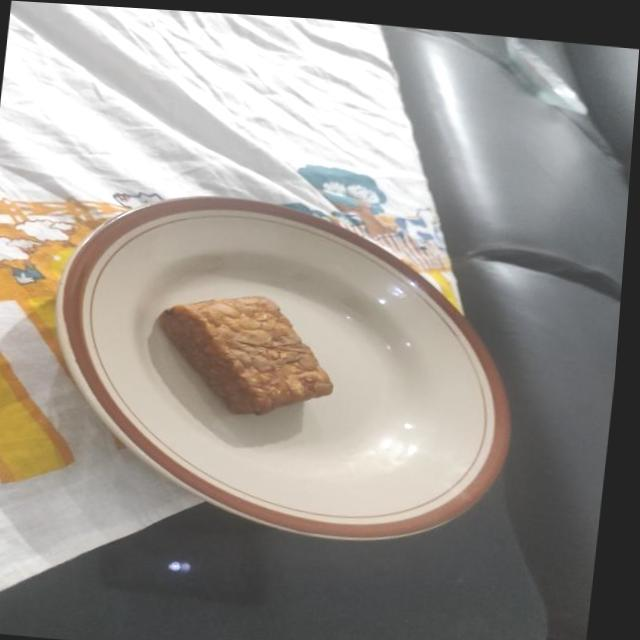tempe_goreng: (158, 296, 332, 414)
